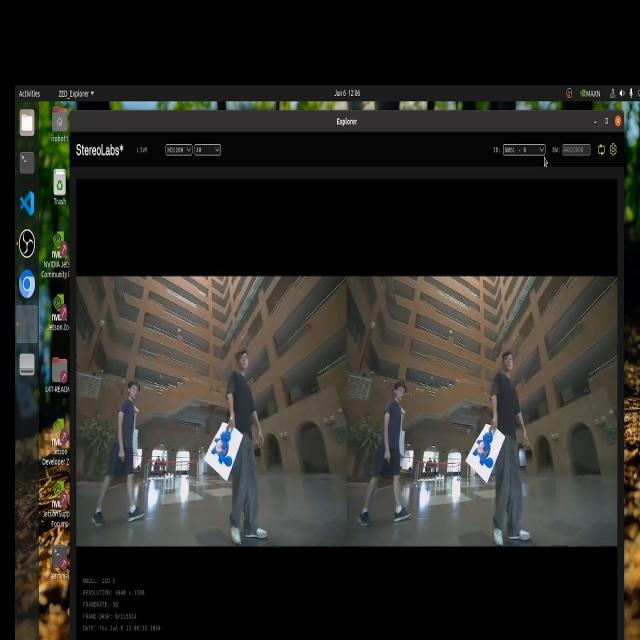blue: (209, 424, 235, 481), (474, 419, 496, 472)
